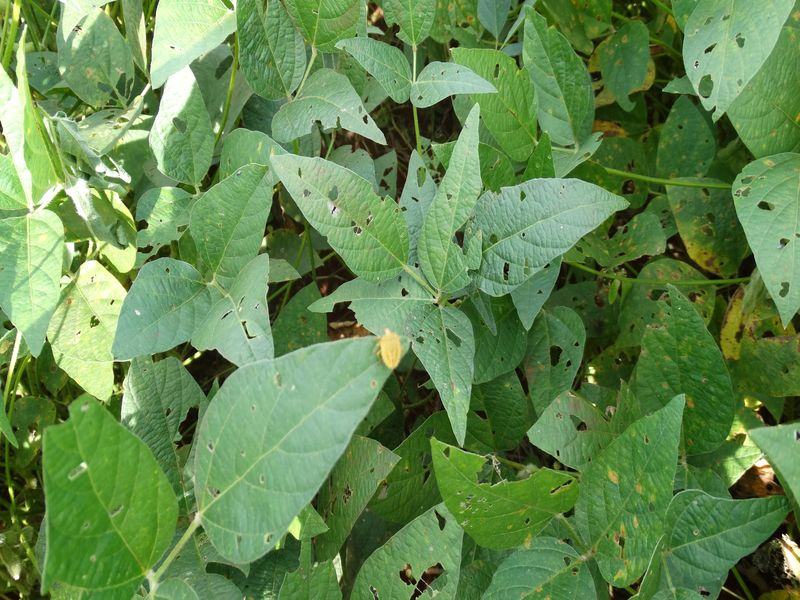Euschistus_heros_ninfa: (365, 323, 407, 374)
